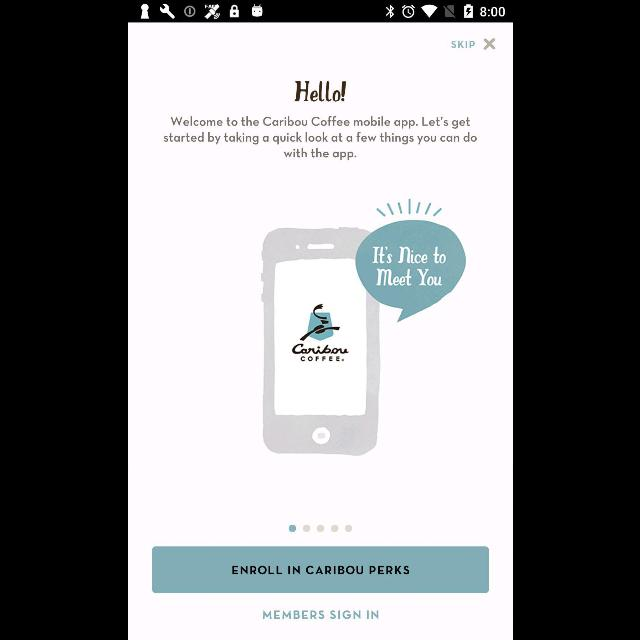icon: (483, 38, 495, 50)
image: (260, 198, 466, 456)
pageindicator: (288, 524, 352, 534)
text: (162, 116, 476, 160), (294, 81, 346, 102), (262, 610, 378, 618), (450, 40, 474, 48)
textbutton: (152, 546, 488, 594)
uppertaskbar: (128, 1, 512, 23)
